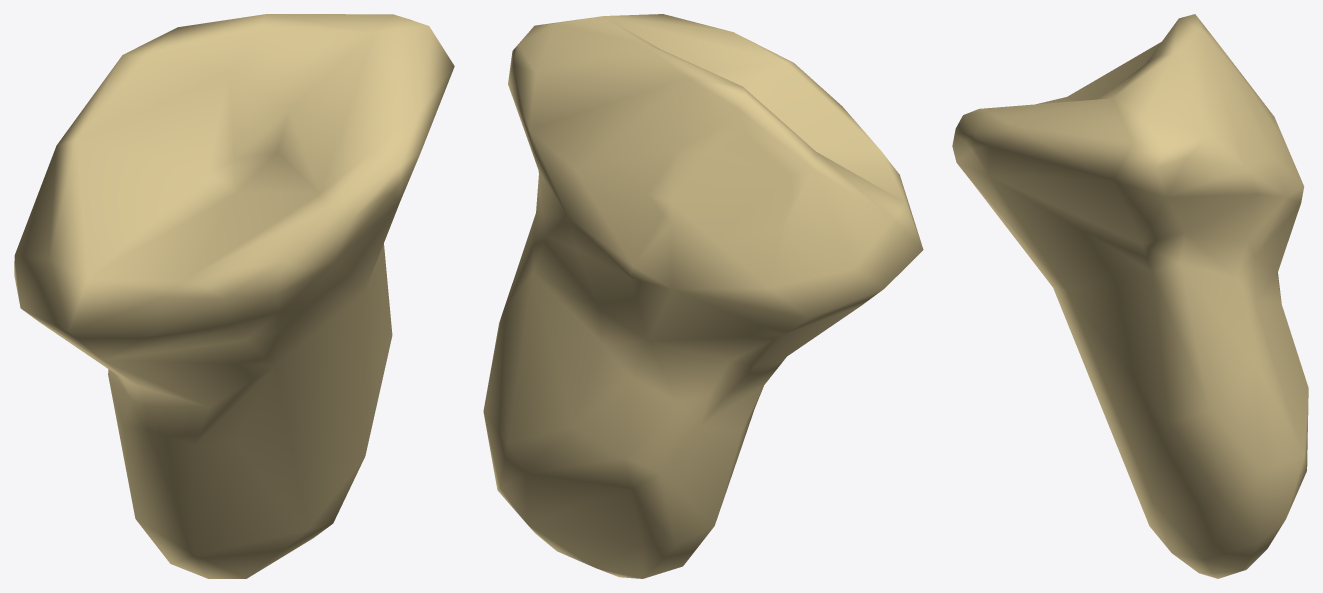
3 renders of one model, left to right at view 1: azimuth 30°, elevation 25°; view 2: azimuth 150°, elevation 25°; view 3: azimuth 270°, elevation 25°, orthographic. The views are drawn at different scales.
Visible parts, largest first — view 1: 左侧第四趾远节趾骨; view 2: 左侧第四趾远节趾骨; view 3: 左侧第四趾远节趾骨.
Boxes of the visible parts, x1=… form: 左侧第四趾远节趾骨: x1=14, y1=14, x2=454, y2=578; 左侧第四趾远节趾骨: x1=483, y1=14, x2=923, y2=578; 左侧第四趾远节趾骨: x1=952, y1=14, x2=1308, y2=578.
Size of the model in its own units: 0.013 by 0.0172 by 0.0108.
